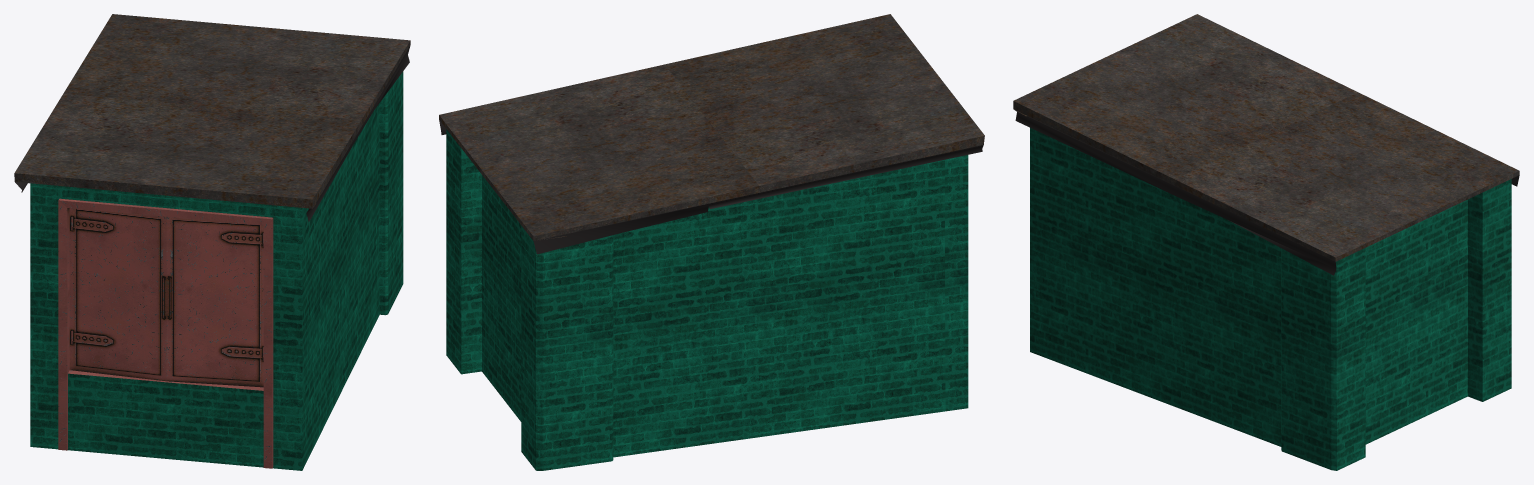
The picture shows the model from 3 angles, left to right: view 1: azimuth 30°, elevation 25°; view 2: azimuth 150°, elevation 25°; view 3: azimuth 270°, elevation 25°; orthographic projection. The views are drawn at different scales.
Parts seen in each view (by area): view 1: 01020-50@500787259; view 2: 01020-50@500787259; view 3: 01020-50@500787259.
Part boxes in pixels (<box>): 01020-50@500787259: <box>14,14,410,470</box>; 01020-50@500787259: <box>439,14,984,470</box>; 01020-50@500787259: <box>1013,14,1519,470</box>.
Size of the model in its own units: 7.55 by 4.24 by 7.74.
1 material, 1 textured.
